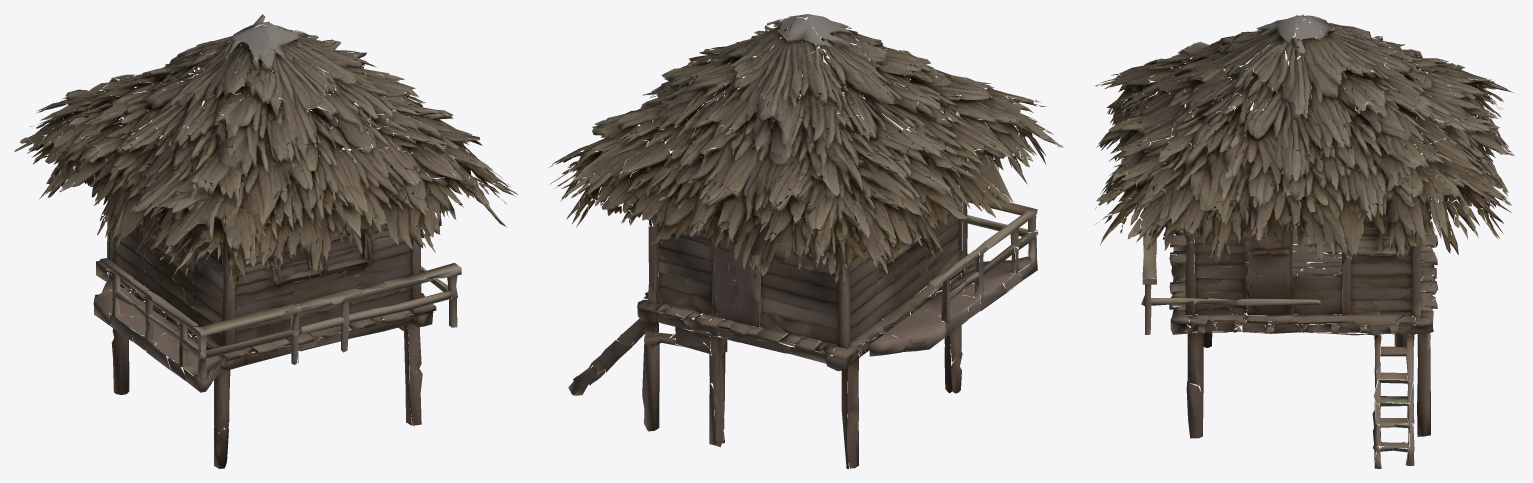
The model's file is hut.glb.
The picture shows the model from 3 angles, left to right: view 1: azimuth 30°, elevation 25°; view 2: azimuth 150°, elevation 25°; view 3: azimuth 270°, elevation 25°; orthographic projection. The views are drawn at different scales.
Parts seen in each view (by area): view 1: tripo_node_33dca8fc-cabb-4ed5-8066-6e5f4f6a624d; view 2: tripo_node_33dca8fc-cabb-4ed5-8066-6e5f4f6a624d; view 3: tripo_node_33dca8fc-cabb-4ed5-8066-6e5f4f6a624d.
Boxes of the visible parts, x1,y1,x2,y2 form: tripo_node_33dca8fc-cabb-4ed5-8066-6e5f4f6a624d: (14,14,517,468); tripo_node_33dca8fc-cabb-4ed5-8066-6e5f4f6a624d: (548,14,1063,468); tripo_node_33dca8fc-cabb-4ed5-8066-6e5f4f6a624d: (1094,14,1514,468).
Size of the model in its own units: 0.9747 by 0.966 by 0.9933.
Materials: 1 (1 with a texture image).
